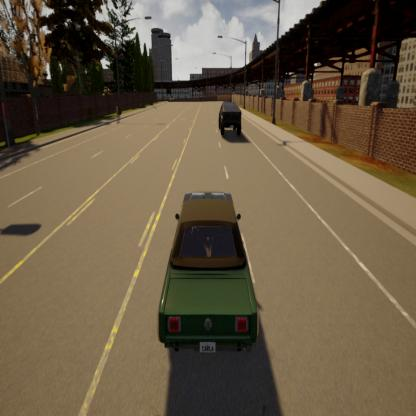Cars: (151, 181, 265, 357), (212, 99, 246, 139)
